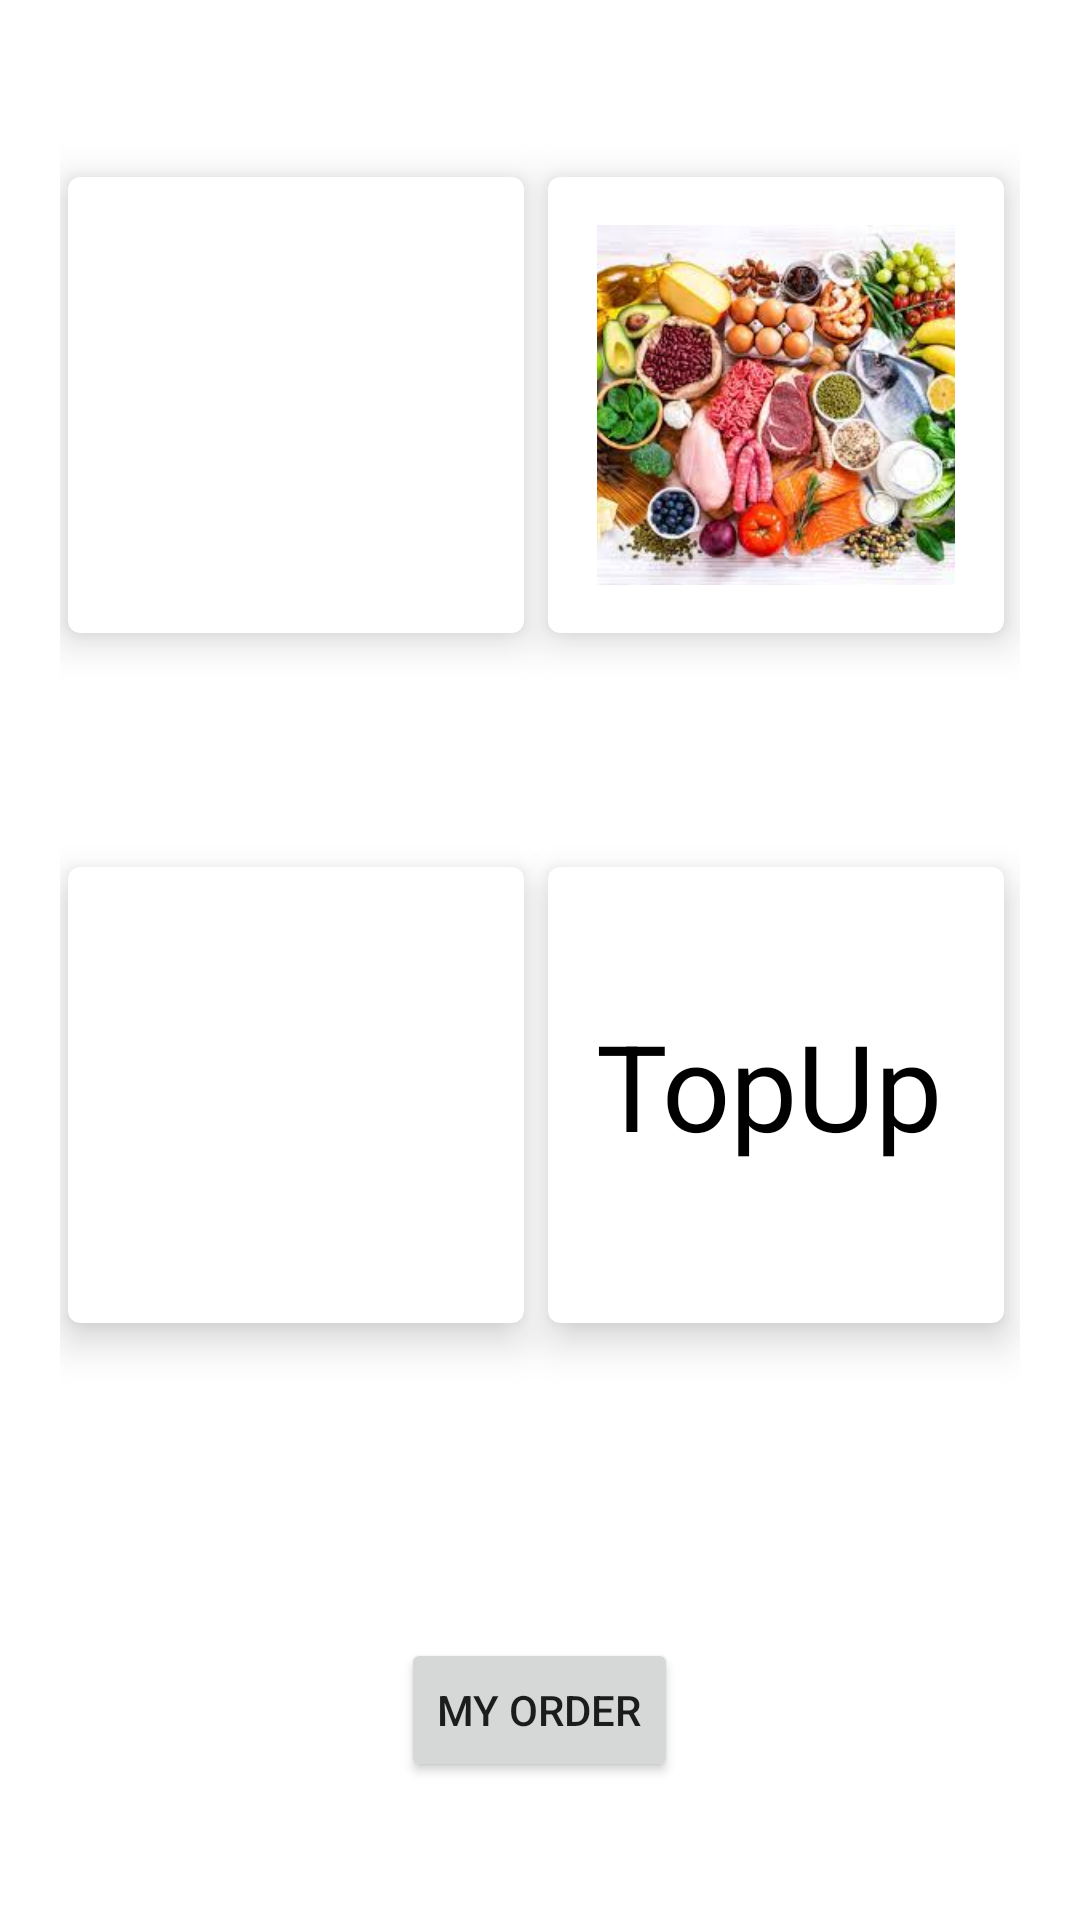

Icons on this 1080*1920 Android screen, each with the point to tap as (x,y):
foods: (776,408)
